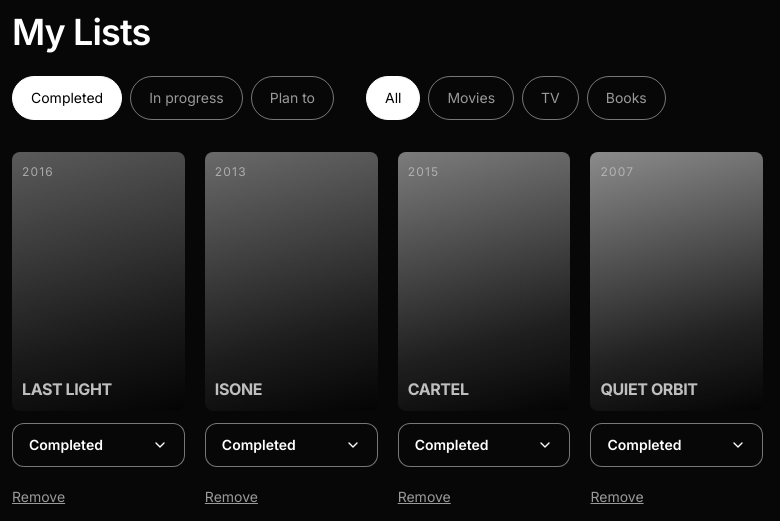
MyLists › switching tab requests that status
The image size is (780, 521).
Check: the link "2016 Last Light" is shown, box top-left (12, 152), bottom-right (185, 411)
Click the button "In progress" at {"x": 186, "y": 98}, box top-left (130, 76), bottom-right (243, 120)
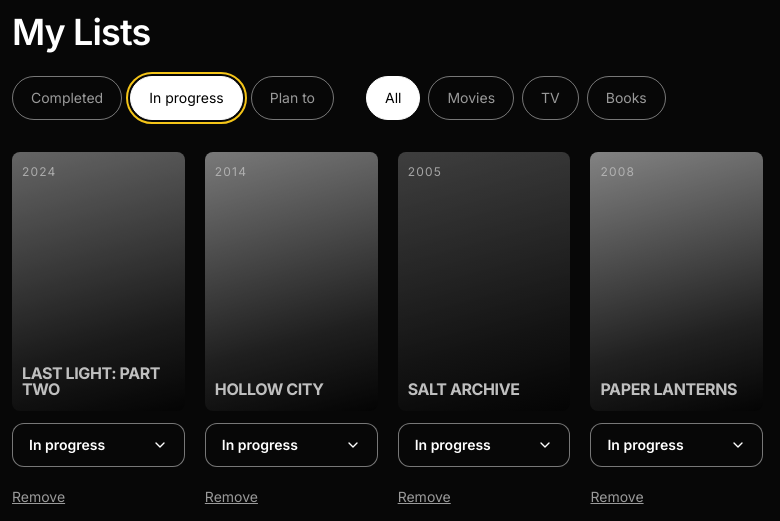
Check: the link "2024 Last Light: Part Two" is shown, box top-left (12, 152), bottom-right (185, 411)
